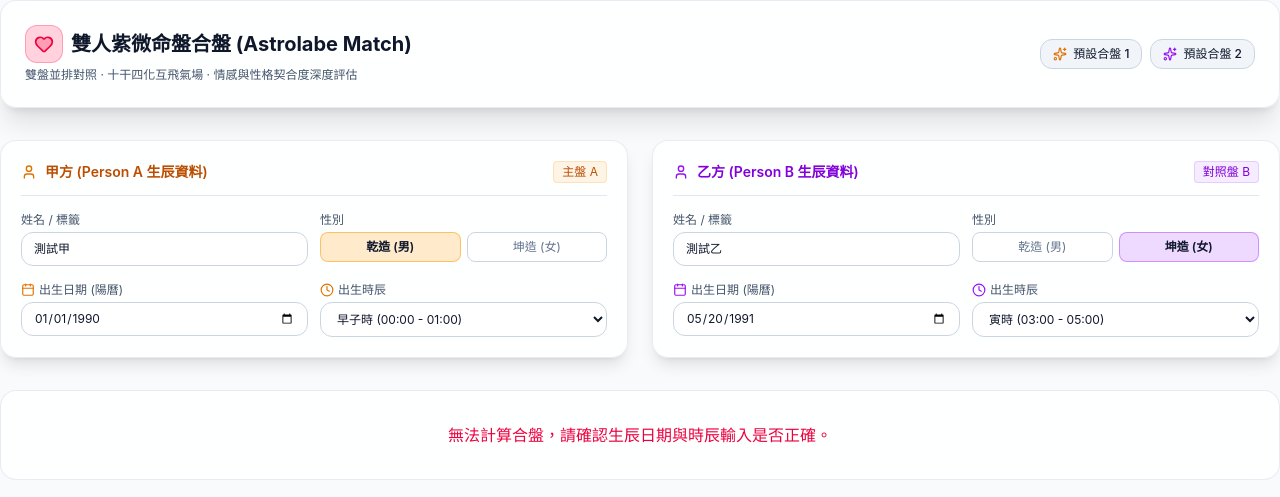
MatchPanel Component (src/components/MatchPanel.tsx) › preserves the dual birth inputs and preset buttons
expect the heading "雙人紫微命盤合盤 (Astrolabe Match)" is shown: met, box [71,30,412,58]
expect the text "甲方 (Person A 生辰資料)" is shown: met, box [21,162,208,182]
Step 1. Click the button "預設合盤 1" → (1091, 54), box [1040,39,1142,69]
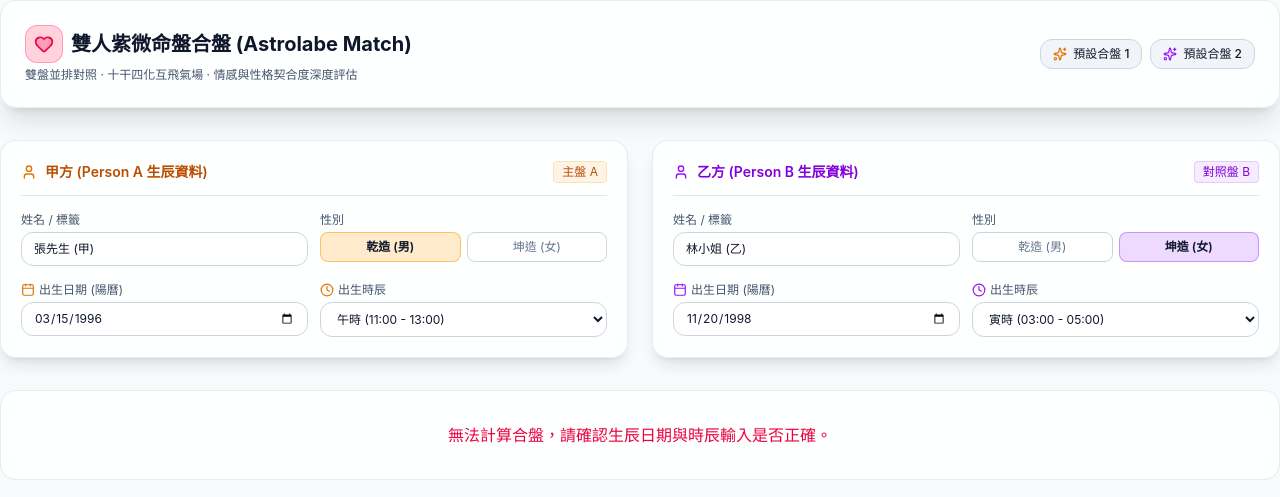
expect the field showing "張先生 (甲)" below "甲方 (Person A 生辰資料)" is shown: met, box [21,232,308,266]
expect the field showing "林小姐 (乙)" below "乙方 (Person B 生辰資料)" is shown: met, box [673,232,960,266]
Step 2. Click the button "預設合盤 2" → (1203, 54), box [1150,39,1255,69]
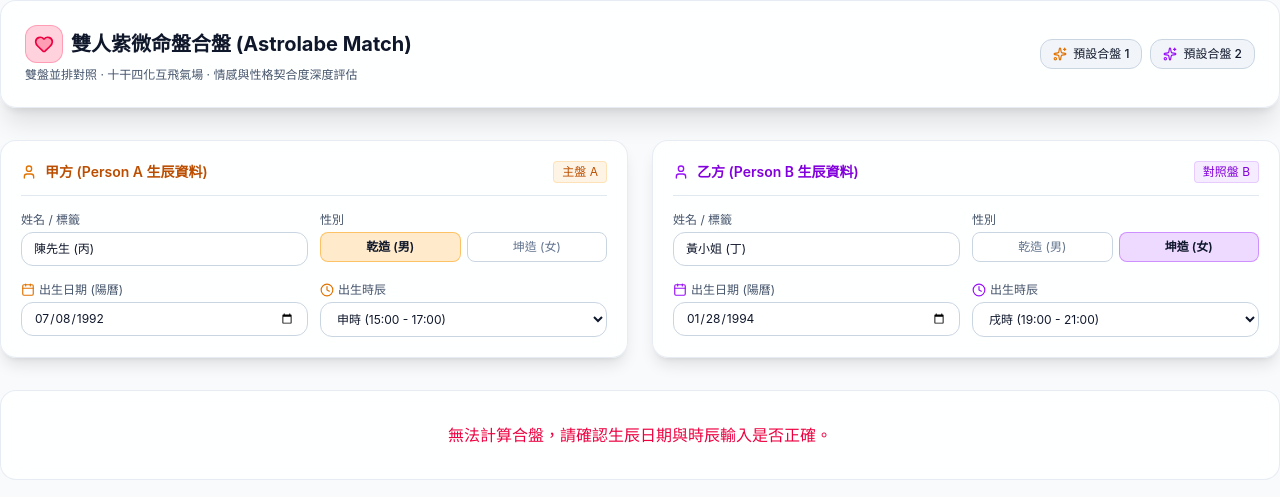
expect the field showing "陳先生 (丙)" below "甲方 (Person A 生辰資料)" is shown: met, box [21,232,308,266]
expect the field showing "黃小姐 (丁)" below "乙方 (Person B 生辰資料)" is shown: met, box [673,232,960,266]
